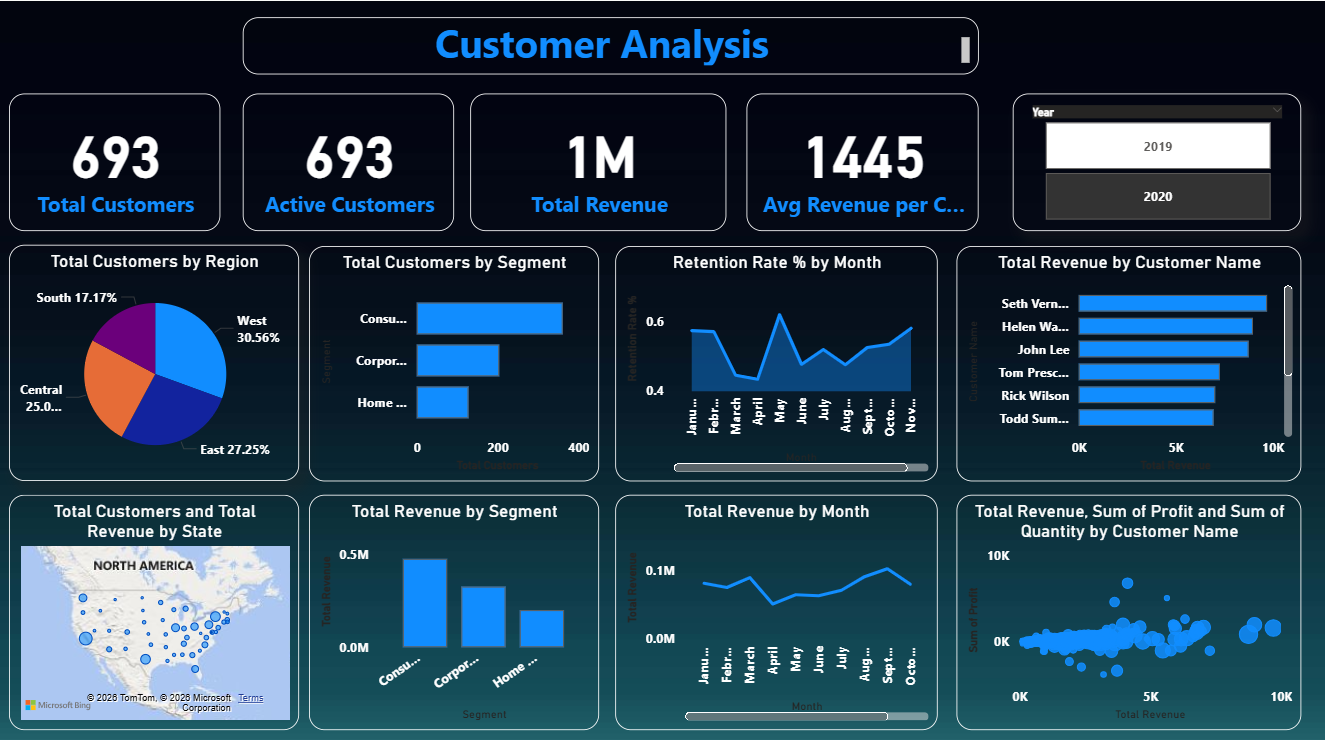

The page's visual inventory and layout, read from the dashboard file:
{"tool":"powerbi","page":{"name":"Customer Analysis ","canvas":[1280,720],"ordinal":2},"visuals":[{"type":"card","fields":{"Values":["SuperStore_Sales_Dataset.Total Customers"]},"box":[9.7,89.3,203.9,132.7],"z":0},{"type":"card","fields":{"Values":["SuperStore_Sales_Dataset.Active Customers"]},"box":[235.3,89.3,203.9,132.7],"z":1000},{"type":"pieChart","fields":{"Category":["SuperStore_Sales_Dataset.Region"],"Y":["SuperStore_Sales_Dataset.Total Customers"]},"box":[9.7,235.3,279.9,228],"z":2000},{"type":"barChart","fields":{"Y":["SuperStore_Sales_Dataset.Total Customers"],"Category":["SuperStore_Sales_Dataset.Segment"]},"box":[299.2,236.5,279.9,226.8],"z":3000},{"type":"clusteredColumnChart","fields":{"Category":["SuperStore_Sales_Dataset.Segment"],"Y":["SuperStore_Sales_Dataset.Total Revenue"]},"box":[299.2,476.5,279.9,226.8],"z":4000},{"type":"card","fields":{"Values":["SuperStore_Sales_Dataset.Total Revenue"]},"box":[454.8,89.3,247.3,132.7],"z":5000},{"type":"card","fields":{"Values":["SuperStore_Sales_Dataset.Avg Revenue per Customer"]},"box":[721.5,89.3,224.4,132.7],"z":6000},{"type":"map","fields":{"Category":["SuperStore_Sales_Dataset.State"],"Size":["SuperStore_Sales_Dataset.Total Customers"]},"box":[9.7,476.5,279.9,226.8],"z":7000},{"type":"barChart","fields":{"Category":["SuperStore_Sales_Dataset.Customer Name"],"Y":["SuperStore_Sales_Dataset.Total Revenue"]},"box":[924.1,236.5,333,226.8],"z":8000},{"type":"lineChart","fields":{"Category":["SuperStore_Sales_Dataset.Order Date.Variation.Date Hierarchy.Month"],"Y":["SuperStore_Sales_Dataset.Total Revenue"]},"box":[594.8,476.5,311.3,226.8],"z":9000},{"type":"scatterChart","fields":{"X":["SuperStore_Sales_Dataset.Total Revenue"],"Y":["Sum(SuperStore_Sales_Dataset.Profit)"],"Size":["Sum(SuperStore_Sales_Dataset.Quantity)"],"Category":["SuperStore_Sales_Dataset.Customer Name"]},"box":[924.1,476.5,333,226.8],"z":10000},{"type":"areaChart","fields":{"Category":["SuperStore_Sales_Dataset.Order Date.Variation.Date Hierarchy.Month"],"Y":["SuperStore_Sales_Dataset.Retention Rate %"]},"box":[594.8,236.5,311.3,226.8],"z":11000},{"type":"slicer","fields":{"Values":["SuperStore_Sales_Dataset.Order Date.Variation.Date Hierarchy.Year"]},"box":[978.4,89.3,278.7,132.7],"z":12000},{"type":"textbox","box":[235.3,15.7,710.6,55.5],"z":13000}]}

Visuals, with their boxes in screenshot pixels (x1, y1, x2, y2), scaled from the page's 1280x720 canvas onto the 1325x740 screenshot:
card - SuperStore_Sales_Dataset.Total Customers: box(10, 92, 221, 228)
card - SuperStore_Sales_Dataset.Active Customers: box(244, 92, 455, 228)
pieChart - SuperStore_Sales_Dataset.Region x SuperStore_Sales_Dataset.Total Customers: box(10, 242, 300, 476)
barChart - SuperStore_Sales_Dataset.Total Customers x SuperStore_Sales_Dataset.Segment: box(310, 243, 599, 476)
clusteredColumnChart - SuperStore_Sales_Dataset.Segment x SuperStore_Sales_Dataset.Total Revenue: box(310, 490, 599, 723)
card - SuperStore_Sales_Dataset.Total Revenue: box(471, 92, 727, 228)
card - SuperStore_Sales_Dataset.Avg Revenue per Customer: box(747, 92, 979, 228)
map - SuperStore_Sales_Dataset.State x SuperStore_Sales_Dataset.Total Customers: box(10, 490, 300, 723)
barChart - SuperStore_Sales_Dataset.Customer Name x SuperStore_Sales_Dataset.Total Revenue: box(957, 243, 1301, 476)
lineChart - SuperStore_Sales_Dataset.Order Date.Variation.Date Hierarchy.Month x SuperStore_Sales_Dataset.Total Revenue: box(616, 490, 938, 723)
scatterChart - SuperStore_Sales_Dataset.Total Revenue x Sum(SuperStore_Sales_Dataset.Profit): box(957, 490, 1301, 723)
areaChart - SuperStore_Sales_Dataset.Order Date.Variation.Date Hierarchy.Month x SuperStore_Sales_Dataset.Retention Rate %: box(616, 243, 938, 476)
slicer - SuperStore_Sales_Dataset.Order Date.Variation.Date Hierarchy.Year: box(1013, 92, 1301, 228)
textbox: box(244, 16, 979, 73)
